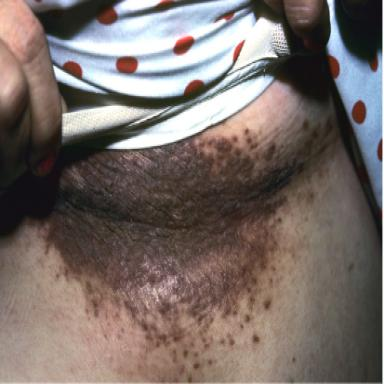Darier_s-Disease: (36, 114, 336, 384)
